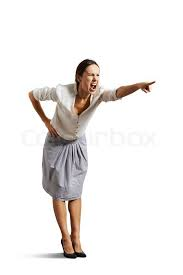hand: (133, 77, 161, 99)
